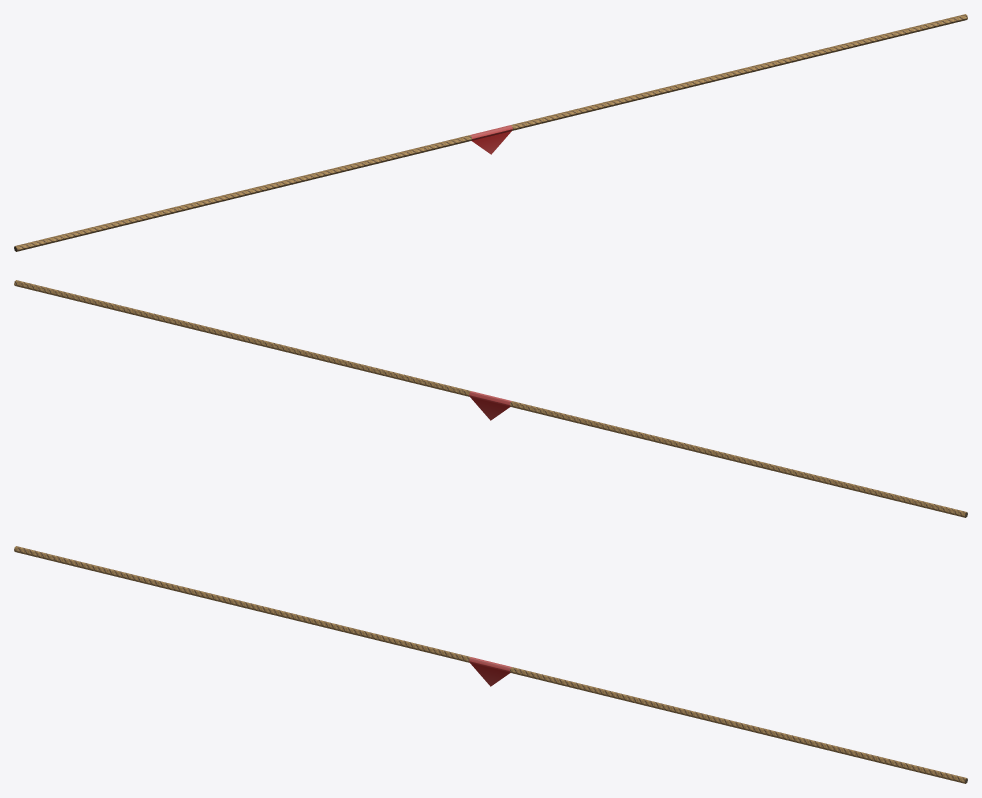
The model's file is squidgame_props_rope.fbx.
3 renders of one model, top to bottom at view 1: azimuth 30°, elevation 25°; view 2: azimuth 150°, elevation 25°; view 3: azimuth 330°, elevation 25°, orthographic.
Parts seen in each view (by area): view 1: squidgame_props_rope; view 2: squidgame_props_rope; view 3: squidgame_props_rope.
Boxes of the visible parts, x1,y1,x2,y2 form: squidgame_props_rope: [14, 14, 967, 251]; squidgame_props_rope: [14, 280, 967, 517]; squidgame_props_rope: [14, 546, 967, 783].
Size of the model in its own units: 12.33 by 0.2973 by 0.0687.
